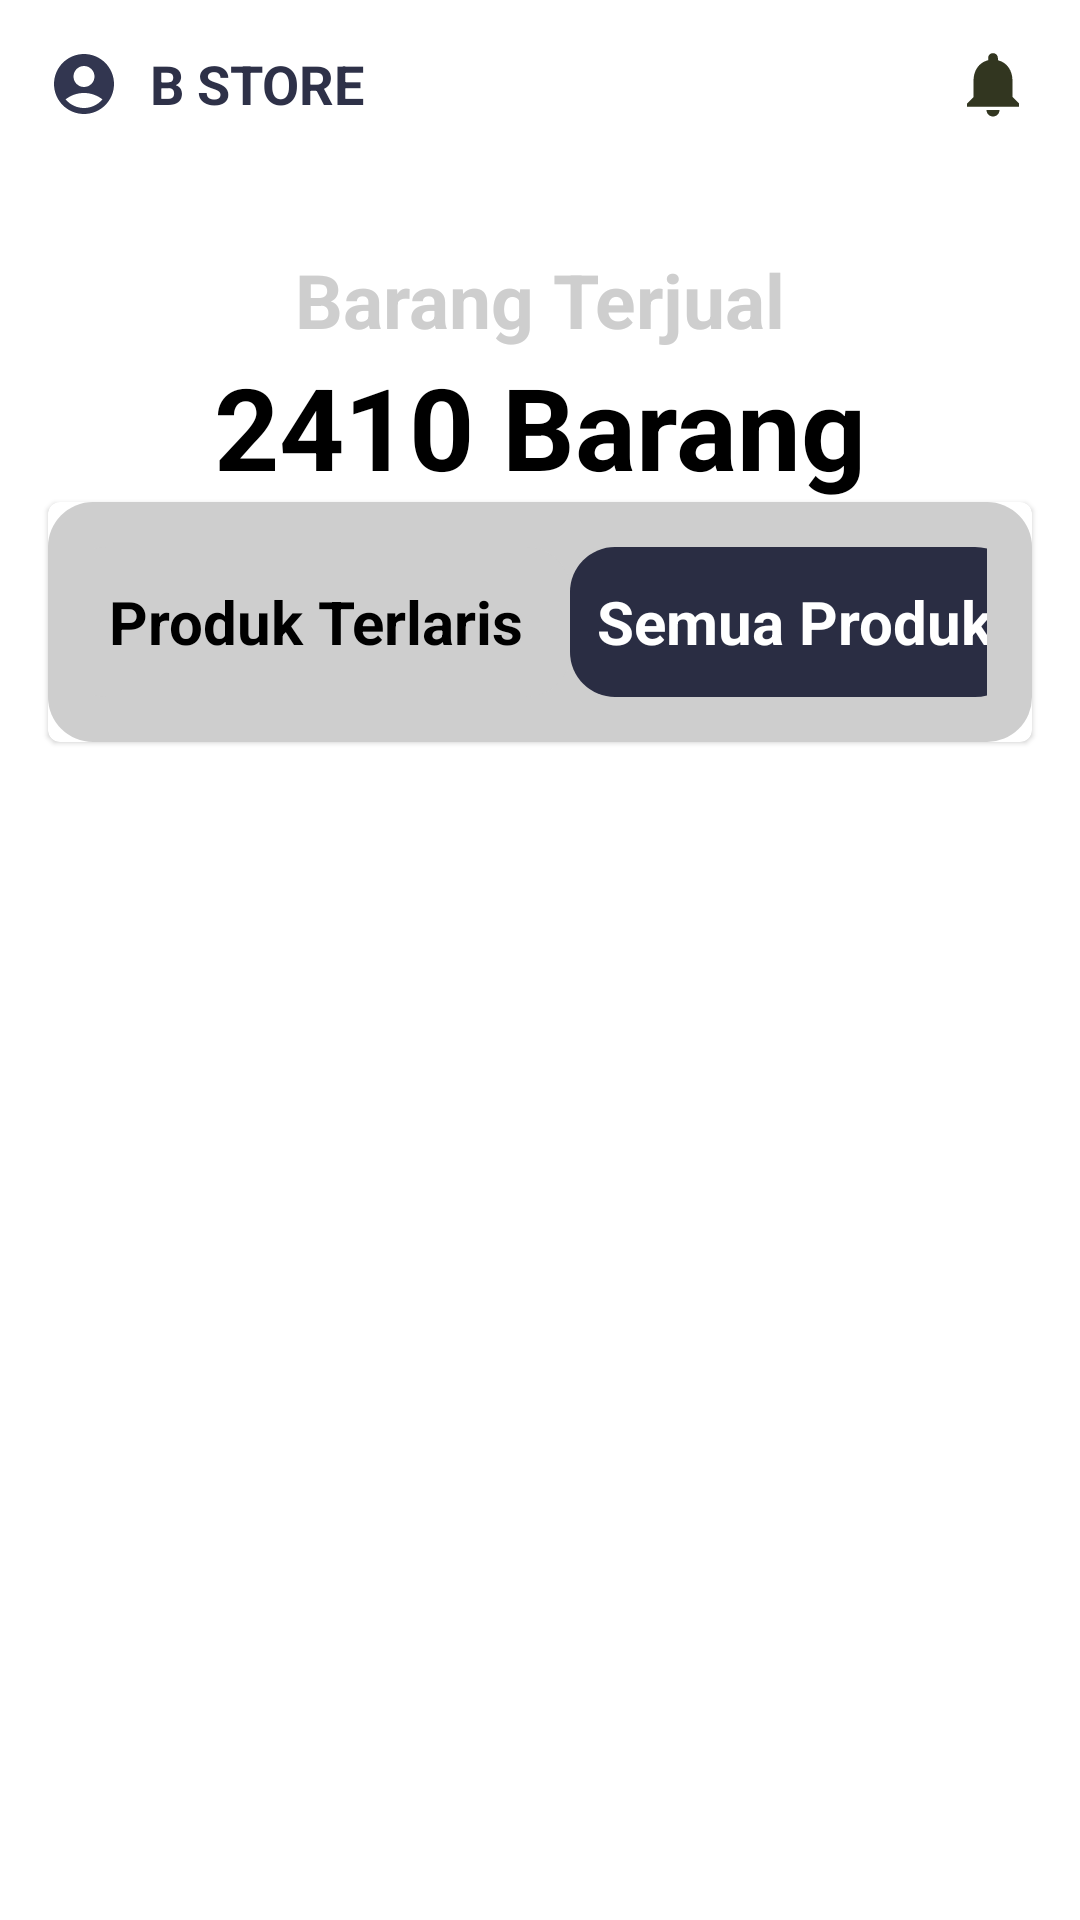

Screen size 1080*1920. Icon name, then its box in pixels as (x1, y1, x2, y2):
account: (54, 54, 114, 114)
notifications: (967, 53, 1019, 117)
